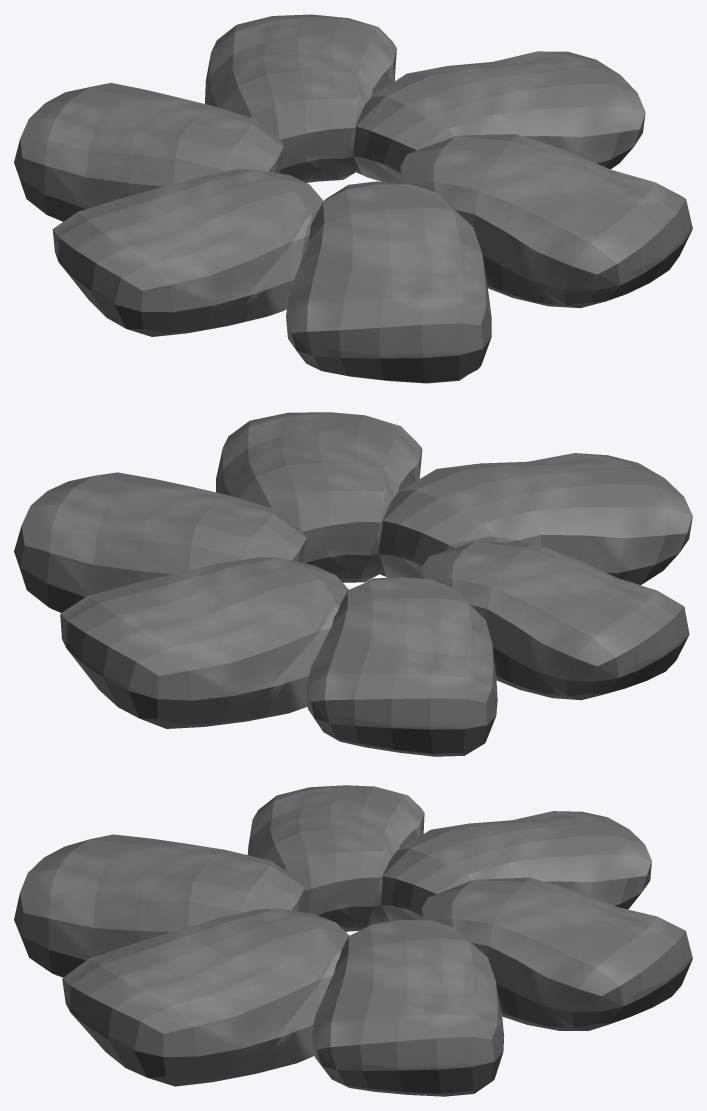
The model's file is campfire.glb.
3 views of the same model, one above another, from view 1: azimuth 30°, elevation 25°; view 2: azimuth 150°, elevation 25°; view 3: azimuth 270°, elevation 25° (orthographic). The views are drawn at different scales.
Parts seen in each view (by area): view 1: Cube; view 2: Cube; view 3: Cube.
Boxes of the visible parts, box(x1,y1,x2,y2) form: Cube: box(14, 14, 692, 383); Cube: box(14, 412, 692, 756); Cube: box(14, 785, 692, 1096).
Bounding box in the file's own units: 0.8487 × 0.1771 × 0.8865.
Materials: 1 (1 with a texture image).
